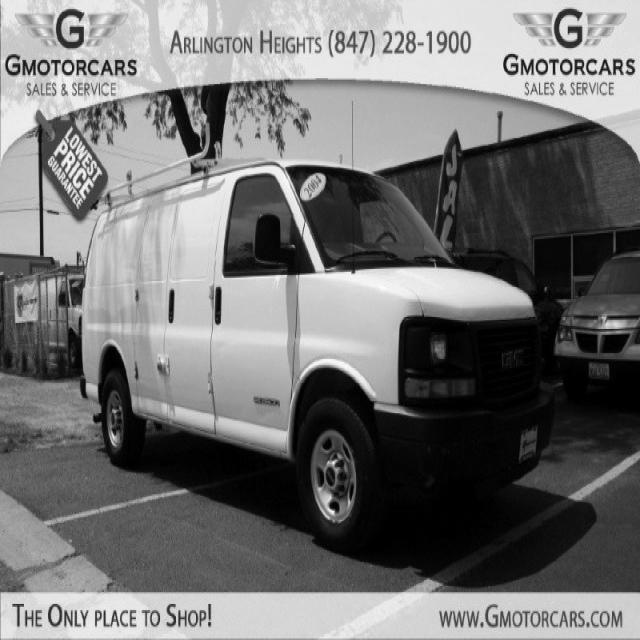car: (80, 123, 552, 538), (552, 248, 639, 400)
